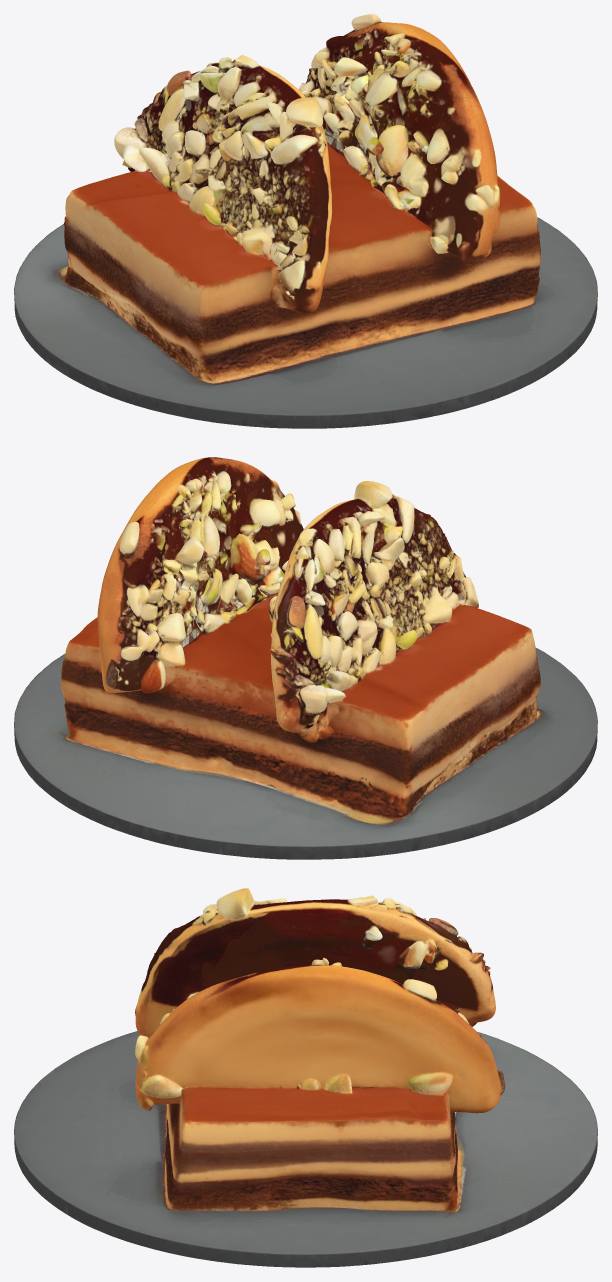
File: KaramisoRamen.glb
The picture shows the model from 3 angles, top to bottom: view 1: azimuth 30°, elevation 25°; view 2: azimuth 150°, elevation 25°; view 3: azimuth 270°, elevation 25°; orthographic projection.
Parts seen in each view (by area): view 1: Mesh_0; view 2: Mesh_0; view 3: Mesh_0.
Boxes of the visible parts, x1,y1,x2,y2 form: Mesh_0: [14, 14, 597, 428]; Mesh_0: [14, 457, 597, 859]; Mesh_0: [14, 888, 597, 1267].
Bounding box in the file's own units: 0.1898 × 0.0852 × 0.1898.
1 material, 1 textured.
